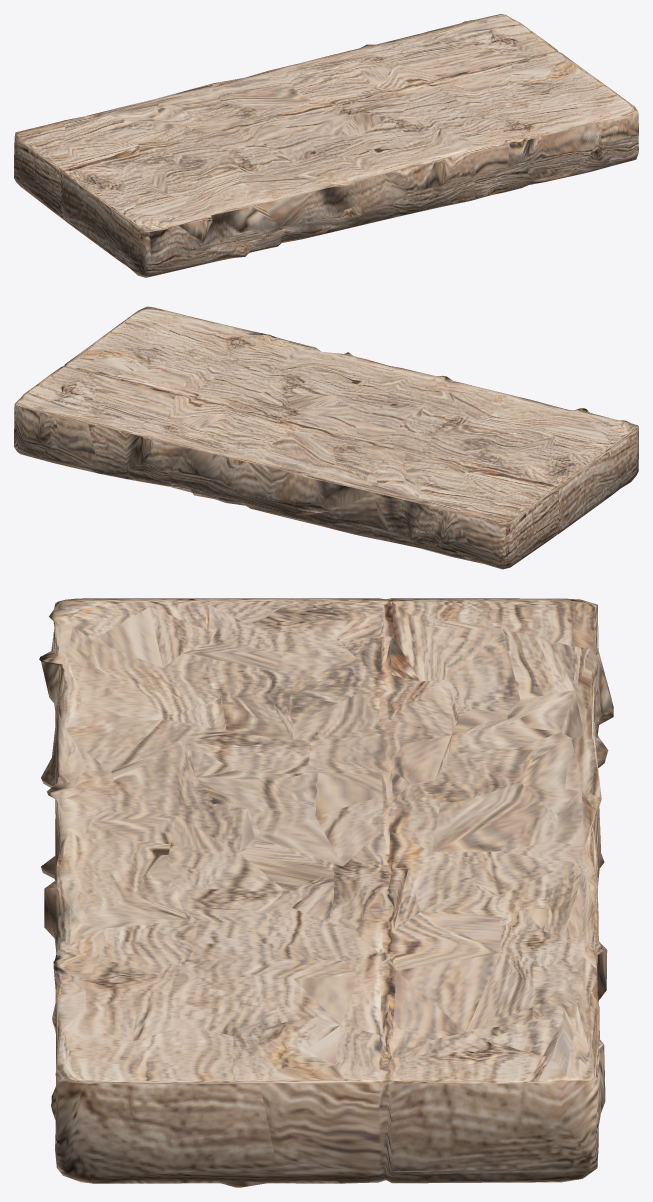
The model's file is plank-short-v1.glb.
3 views of the same model, one above another, from view 1: azimuth 30°, elevation 25°; view 2: azimuth 150°, elevation 25°; view 3: azimuth 270°, elevation 25° (orthographic). The views are drawn at different scales.
Parts seen in each view (by area): view 1: tripo_node_499e7e07-01af-4298-9465-143bcc72725c; view 2: tripo_node_499e7e07-01af-4298-9465-143bcc72725c; view 3: tripo_node_499e7e07-01af-4298-9465-143bcc72725c.
Part boxes in pixels (box(x1,y1,x2,y2)): tripo_node_499e7e07-01af-4298-9465-143bcc72725c: box(14, 14, 638, 277); tripo_node_499e7e07-01af-4298-9465-143bcc72725c: box(14, 306, 638, 569); tripo_node_499e7e07-01af-4298-9465-143bcc72725c: box(39, 598, 613, 1187).
Size of the model in its own units: 0.9999 by 0.11 by 0.5.
1 material, 1 textured.
